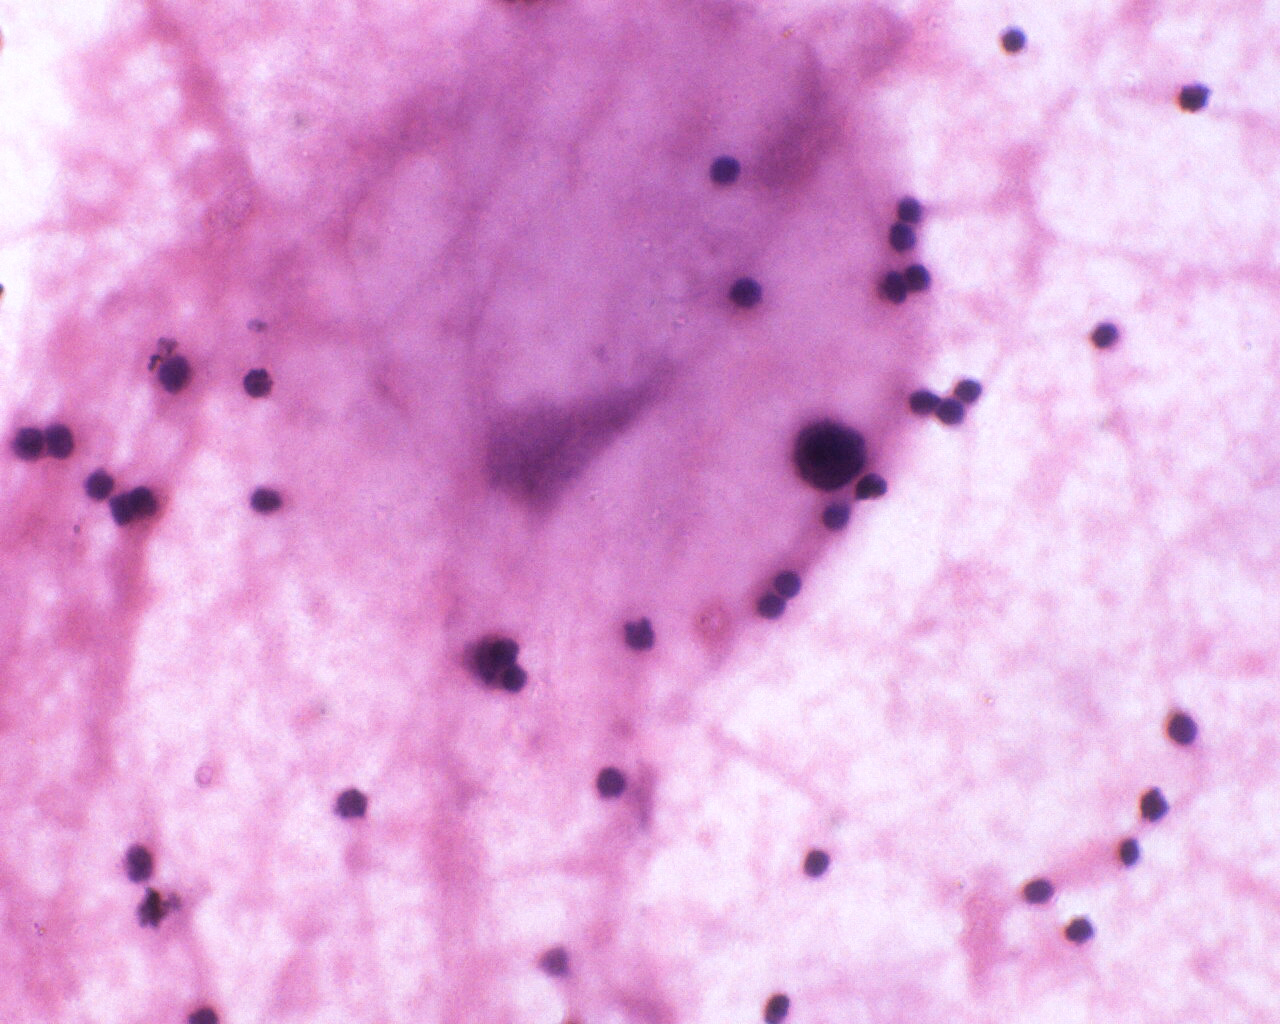ab: (790, 411, 870, 492)
lymph: (155, 351, 201, 400), (34, 421, 80, 462), (1162, 707, 1204, 751), (722, 272, 768, 311), (587, 762, 630, 804), (796, 843, 838, 884), (1019, 865, 1058, 908), (249, 484, 289, 523), (1083, 317, 1124, 354), (707, 150, 746, 188), (999, 22, 1035, 60), (766, 565, 806, 599), (1063, 909, 1098, 944)
